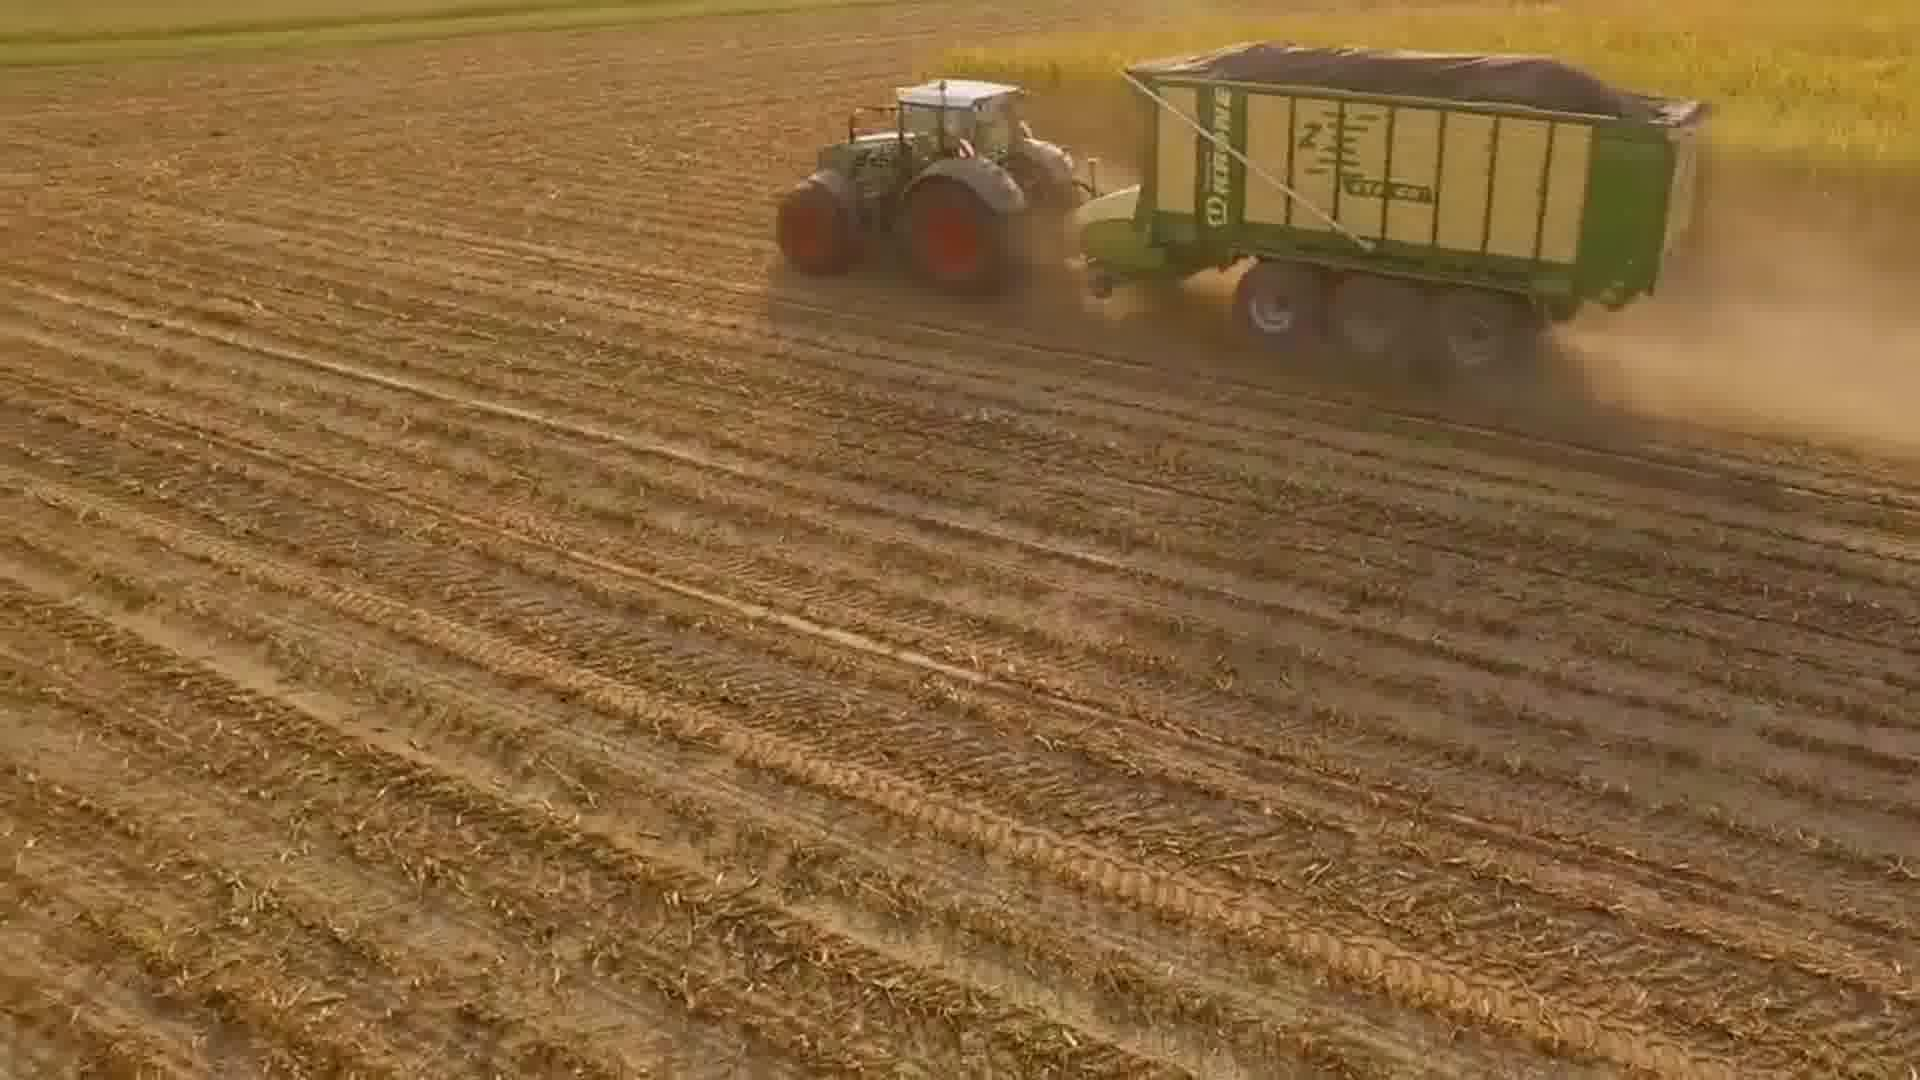tractor: (766, 59, 1081, 306)
trailer: (1084, 34, 1720, 397)
